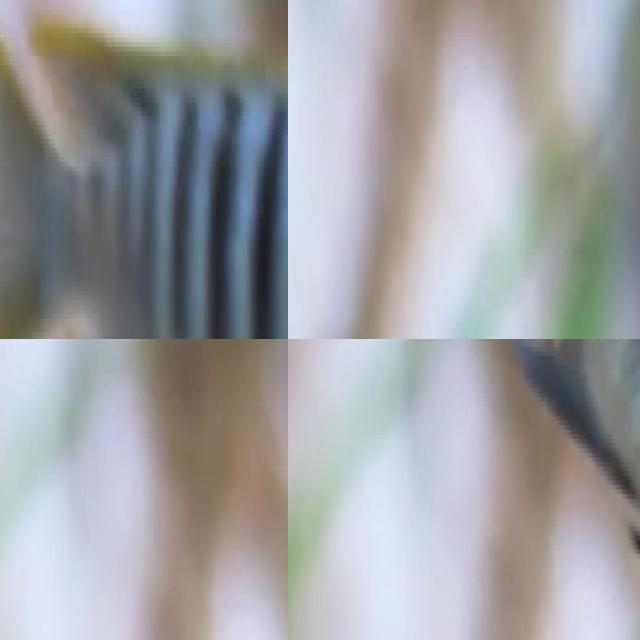fish: (0, 0, 288, 339), (410, 339, 640, 640)
